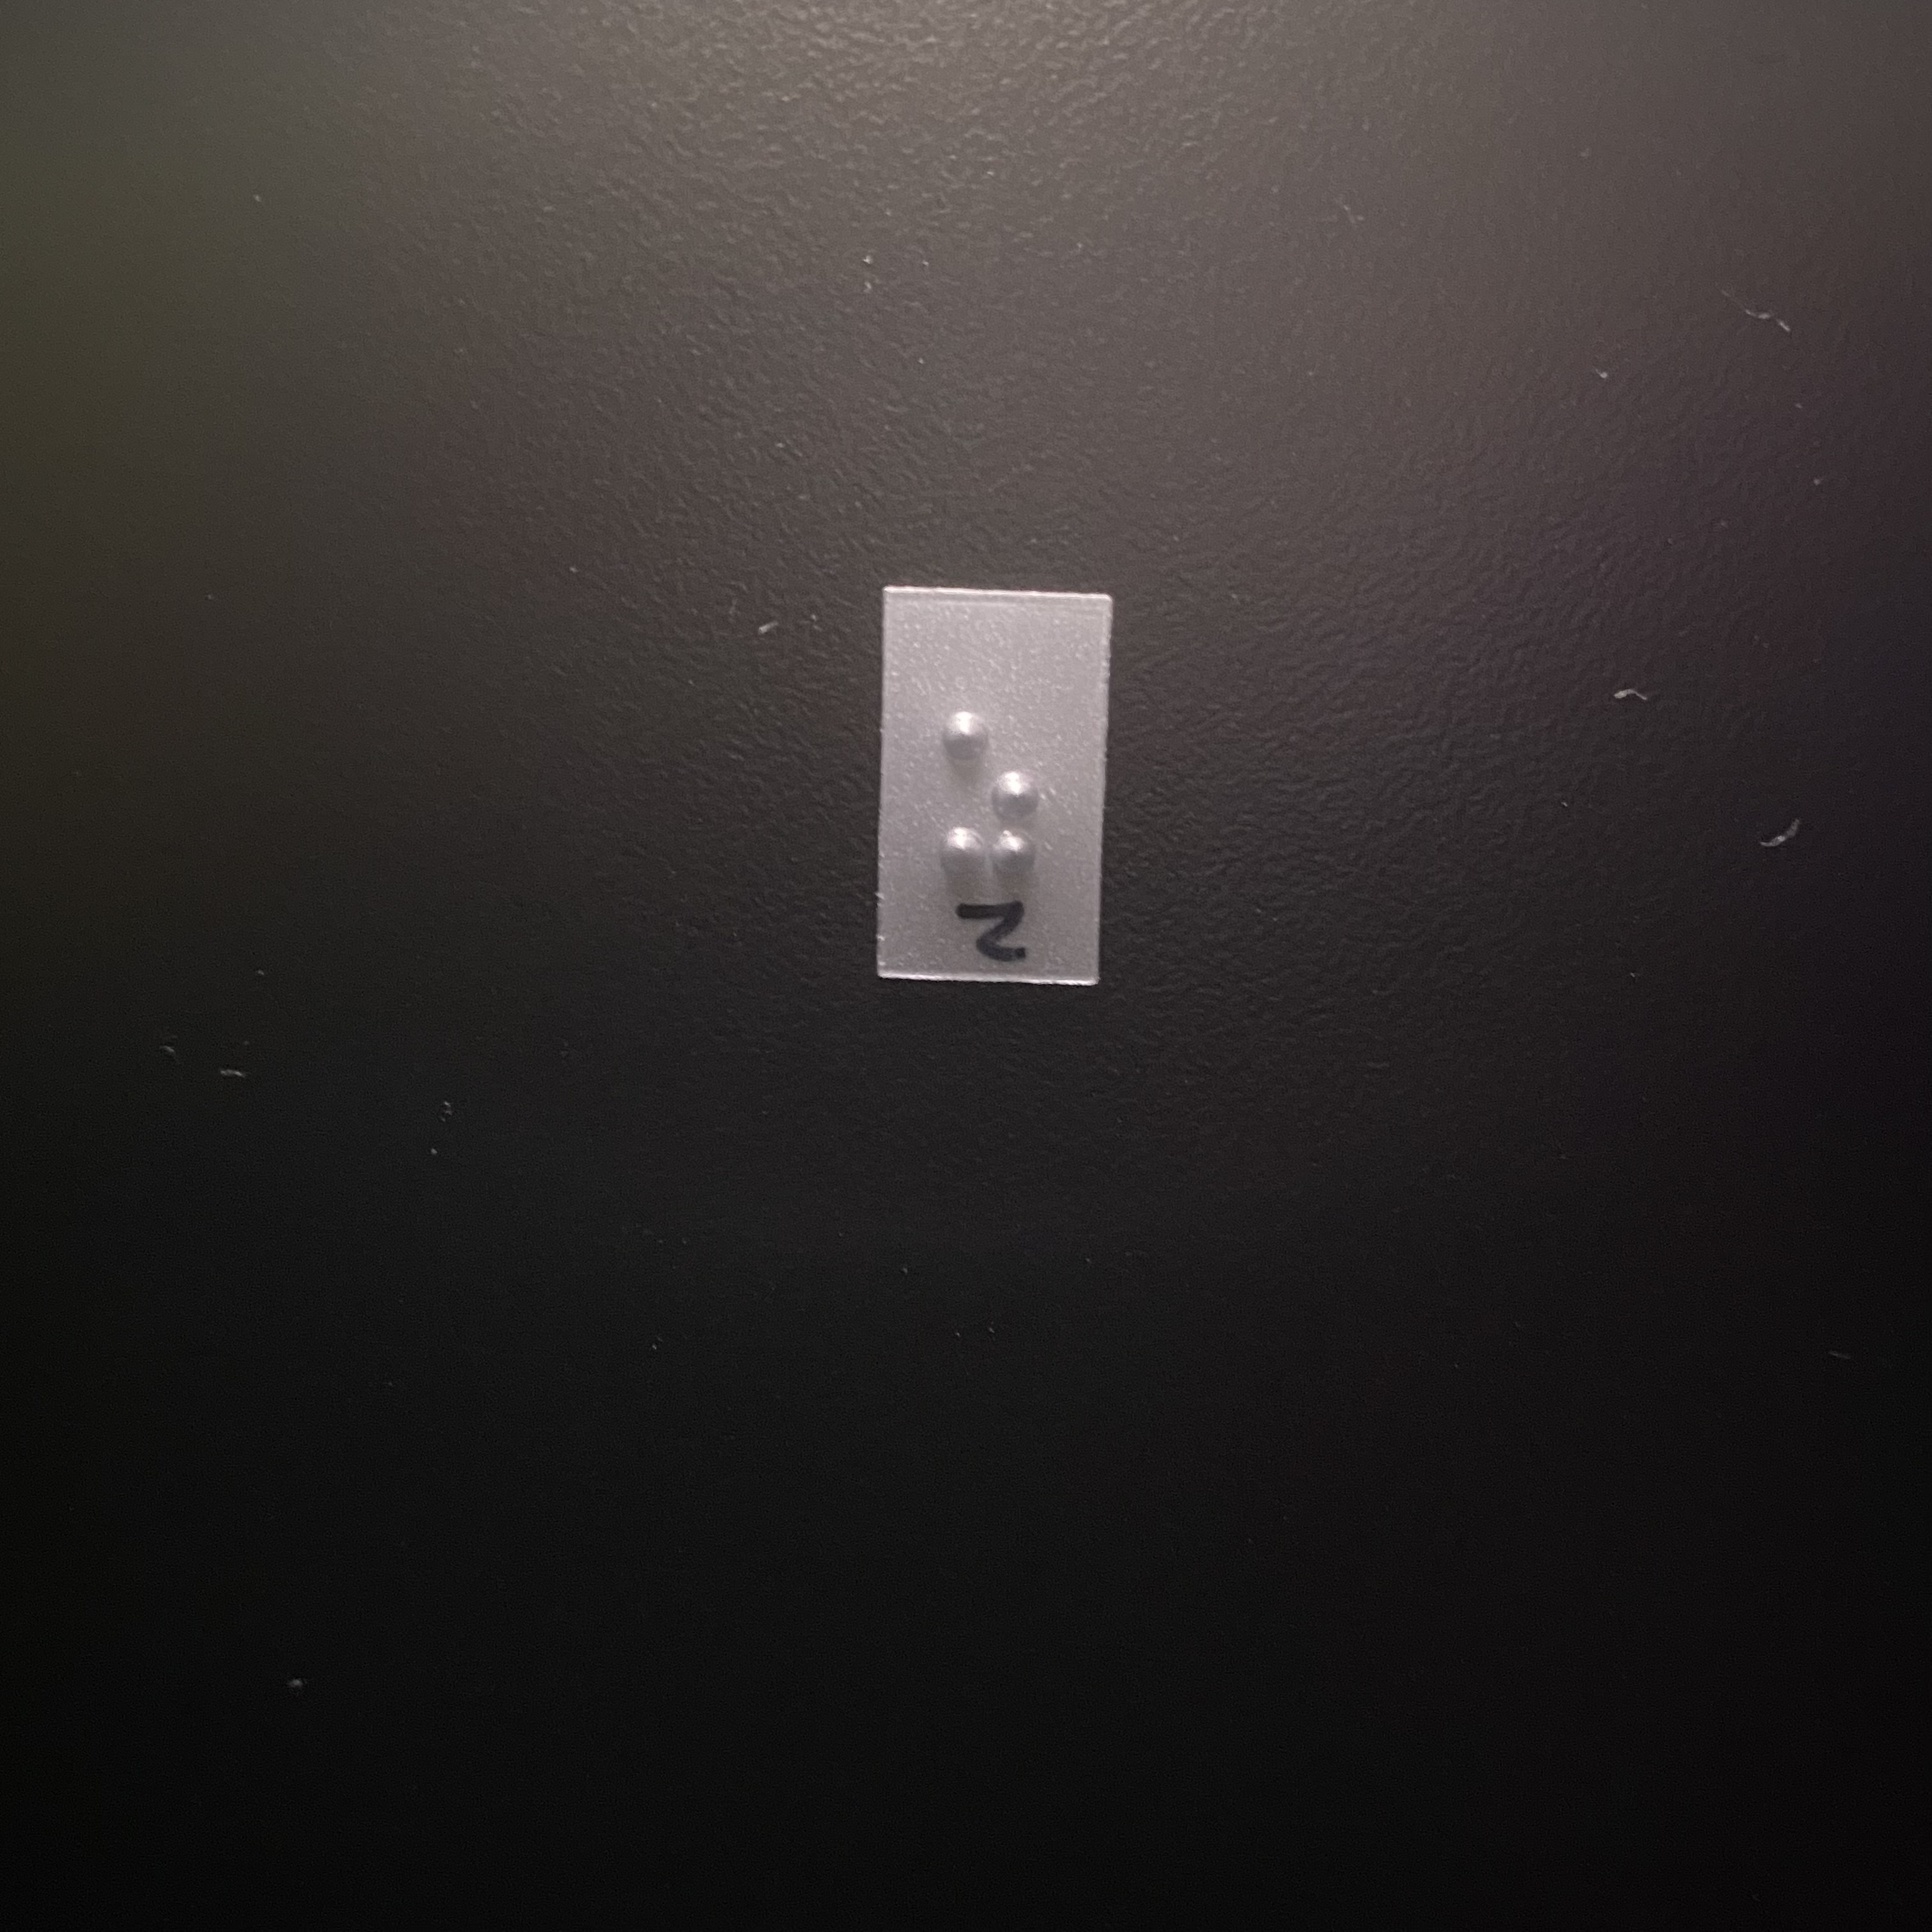z: (932, 693, 1045, 911)
